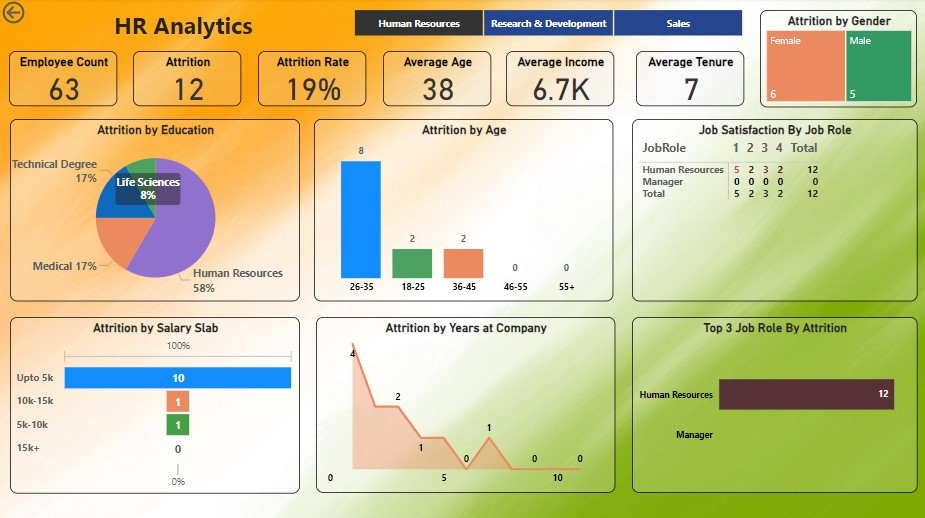

The dashboard page shown, as its layout file describes it:
{"tool":"powerbi","page":{"name":"Page 1","canvas":[1280,720],"ordinal":0},"visuals":[{"type":"card","title":"Employee Count","fields":{"Values":["CountNonNull(HR_Analytics.EmpID)"]},"box":[15.7,72.7,149.3,75.6],"z":0},{"type":"card","title":"Attrition","fields":{"Values":["Sum(HR_Analytics.AttritionCount)"]},"box":[185.8,72.7,149.3,75.6],"z":1000},{"type":"card","title":"Attrition Rate","fields":{"Values":["HR_Analytics.AttritionRate"]},"box":[357.8,72.7,149.3,75.6],"z":2000},{"type":"card","title":"Average Age","fields":{"Values":["Avg(HR_Analytics.Age)"]},"box":[529.8,72.7,149.3,75.6],"z":3000},{"type":"card","title":"Average Income","fields":{"Values":["Avg(HR_Analytics.MonthlyIncome)"]},"box":[699.8,72.7,149.3,75.6],"z":4000},{"type":"card","title":"Average Tenure","fields":{"Values":["Avg(HR_Analytics.YearsAtCompany)"]},"box":[877.5,72.7,149.3,75.6],"z":5000},{"type":"pieChart","title":"Attrition by Education","fields":{"Category":["HR_Analytics.EducationField"],"Y":["Sum(HR_Analytics.AttritionCount)"]},"box":[15.9,166.9,398.9,251.1],"z":6000},{"type":"columnChart","title":"Attrition by Age","fields":{"Category":["HR_Analytics.AgeGroup"],"Y":["Sum(HR_Analytics.AttritionCount)"]},"box":[435.5,166.9,411.7,251.1],"z":7000},{"type":"pivotTable","title":"Job Satisfaction By Job Role","fields":{"Rows":["HR_Analytics.JobRole"],"Columns":["HR_Analytics.JobSatisfaction"],"Values":["Sum(HR_Analytics.AttritionCount)"]},"box":[872.6,166.9,392.6,251.1],"z":8000},{"type":"actionButton","box":[0.8,-0.4,100,40],"z":9000},{"type":"funnel","title":"Attrition by Salary Slab","fields":{"Category":["HR_Analytics.SalarySlab"],"Y":["Sum(HR_Analytics.AttritionCount)"]},"box":[15.9,438.7,398.9,243.2],"z":10000},{"type":"barChart","title":"Top 3 Job Role By Attrition","fields":{"Y":["Sum(HR_Analytics.AttritionCount)"],"Category":["HR_Analytics.JobRole"]},"box":[872.6,438.7,392.6,241.6],"z":11000},{"type":"areaChart","title":"Attrition by Years at Company","fields":{"Category":["HR_Analytics.YearsAtCompany"],"Y":["Sum(HR_Analytics.AttritionCount)"]},"box":[437.1,438.7,411.7,241.6],"z":12000},{"type":"treemap","title":"Attrition by Gender","fields":{"Group":["HR_Analytics.Gender"],"Values":["Sum(HR_Analytics.AttritionCount)"]},"box":[1049,15.9,216.2,133.5],"z":13000},{"type":"slicer","fields":{"Values":["HR_Analytics.Department"]},"box":[465.7,9.5,583.3,49.3],"z":14000},{"type":"textbox","box":[19.1,9.5,480,66.8],"z":15000}]}

Visuals, with their boxes in screenshot pixels (x1, y1, x2, y2), scaled from the page's 1280x720 canvas onto the 925x518 screenshot:
"Employee Count" card: x1=11 y1=52 x2=119 y2=107
"Attrition" card: x1=134 y1=52 x2=242 y2=107
"Attrition Rate" card: x1=259 y1=52 x2=366 y2=107
"Average Age" card: x1=383 y1=52 x2=491 y2=107
"Average Income" card: x1=506 y1=52 x2=614 y2=107
"Average Tenure" card: x1=634 y1=52 x2=742 y2=107
"Attrition by Education" pieChart: x1=11 y1=120 x2=300 y2=301
"Attrition by Age" columnChart: x1=315 y1=120 x2=612 y2=301
"Job Satisfaction By Job Role" pivotTable: x1=631 y1=120 x2=914 y2=301
actionButton: x1=1 y1=0 x2=73 y2=28
"Attrition by Salary Slab" funnel: x1=11 y1=316 x2=300 y2=491
"Top 3 Job Role By Attrition" barChart: x1=631 y1=316 x2=914 y2=489
"Attrition by Years at Company" areaChart: x1=316 y1=316 x2=613 y2=489
"Attrition by Gender" treemap: x1=758 y1=11 x2=914 y2=107
slicer - HR_Analytics.Department: x1=337 y1=7 x2=758 y2=42
textbox: x1=14 y1=7 x2=361 y2=55
